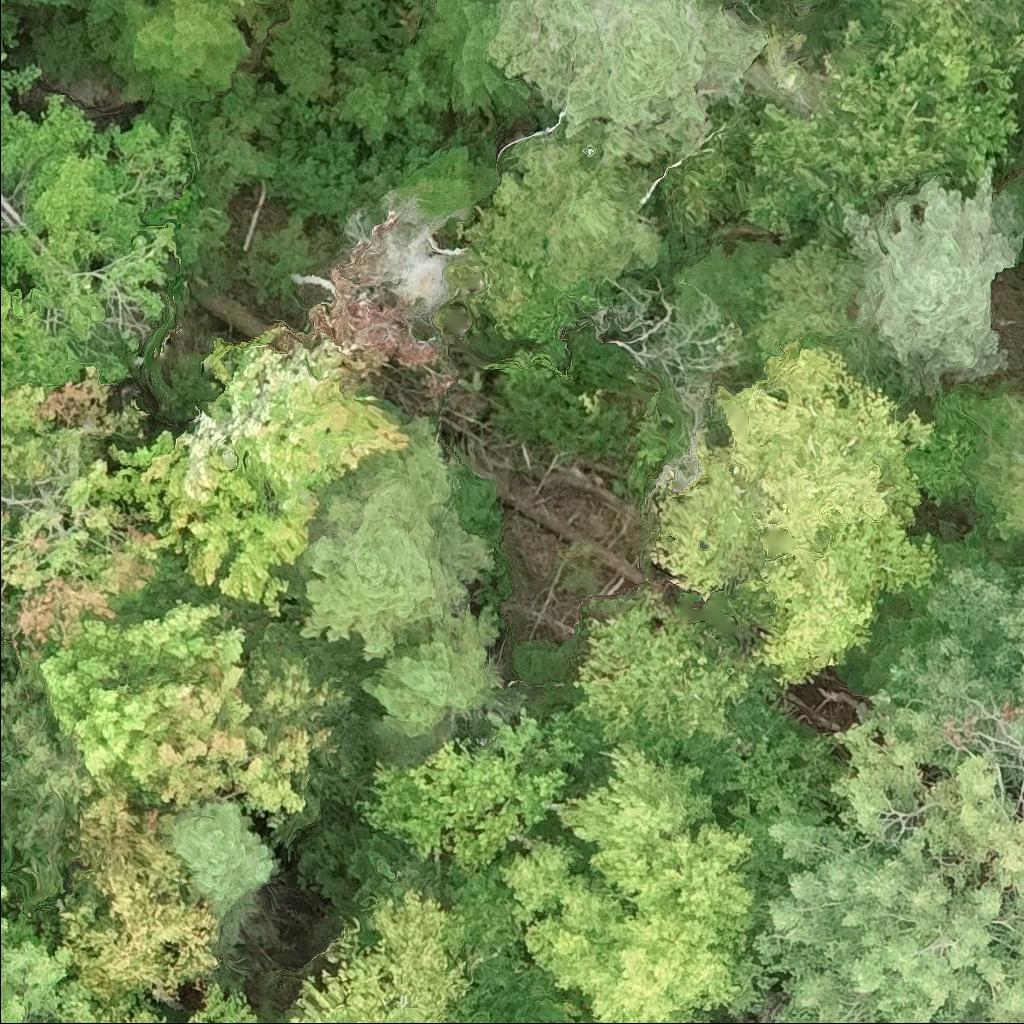crown: (648, 338, 943, 696), (62, 332, 418, 616), (748, 714, 1023, 1023), (496, 738, 788, 1023), (26, 592, 338, 830), (0, 357, 184, 660), (279, 411, 494, 657), (485, 0, 771, 164), (838, 158, 1023, 397), (818, 3, 1023, 204), (355, 702, 583, 874), (277, 865, 522, 1023), (568, 585, 781, 766), (54, 793, 223, 1020), (888, 562, 1023, 815), (0, 638, 94, 941), (356, 597, 505, 760), (18, 93, 139, 268), (103, 0, 246, 117), (0, 882, 96, 1023), (421, 0, 532, 115), (166, 812, 275, 926), (394, 134, 502, 215), (850, 0, 1023, 49), (970, 446, 1023, 568), (336, 55, 405, 142), (0, 64, 40, 184), (179, 977, 279, 1023), (0, 288, 25, 383), (95, 990, 165, 1023), (11, 0, 90, 10), (736, 1008, 781, 1023), (233, 0, 255, 10), (0, 41, 6, 64)
